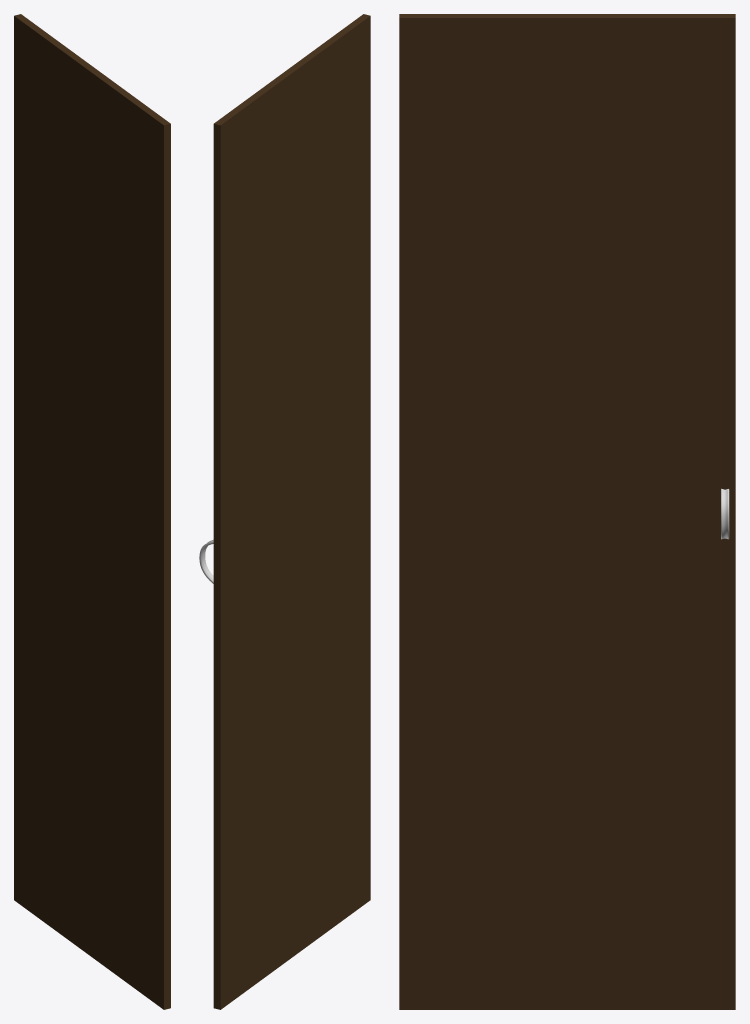
Rendered from дверь спальня.FBX.
3 renders of one model, left to right at view 1: azimuth 30°, elevation 25°; view 2: azimuth 150°, elevation 25°; view 3: azimuth 270°, elevation 25°, orthographic. The views are drawn at different scales.
Parts seen in each view (by area): view 1: Object206; view 2: Object206; view 3: Object206.
Boxes of the visible parts, x1,y1,x2,y2 form: Object206: [14, 14, 170, 1009]; Object206: [199, 14, 370, 1009]; Object206: [399, 14, 735, 1009].
Bounding box in the file's own units: 69.39 × 2408 × 740.
